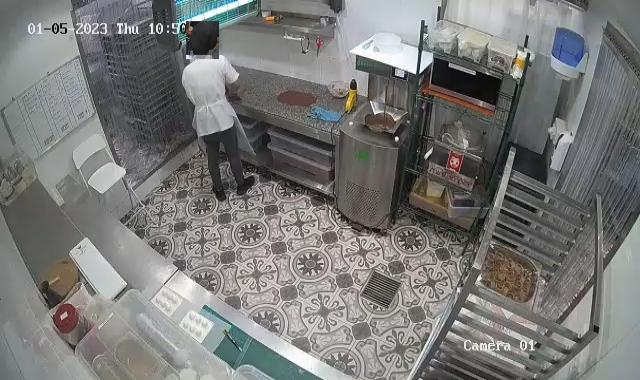no_hairnet: (188, 19, 220, 54)
